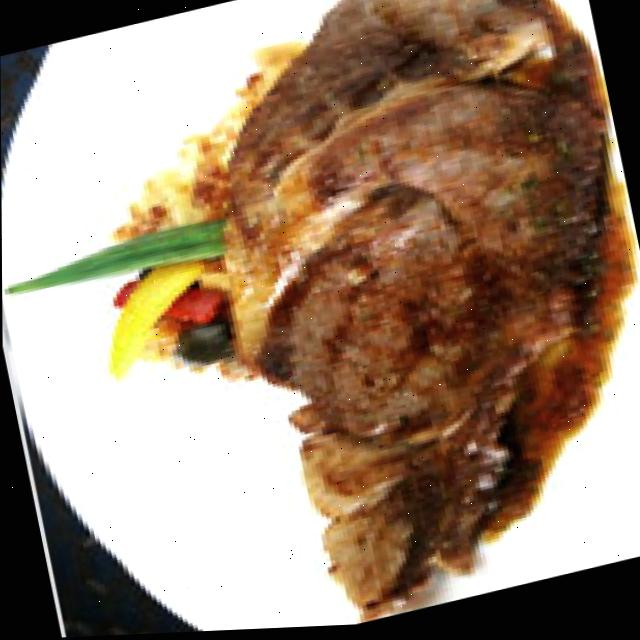牛肉菜式: (147, 0, 640, 635)
